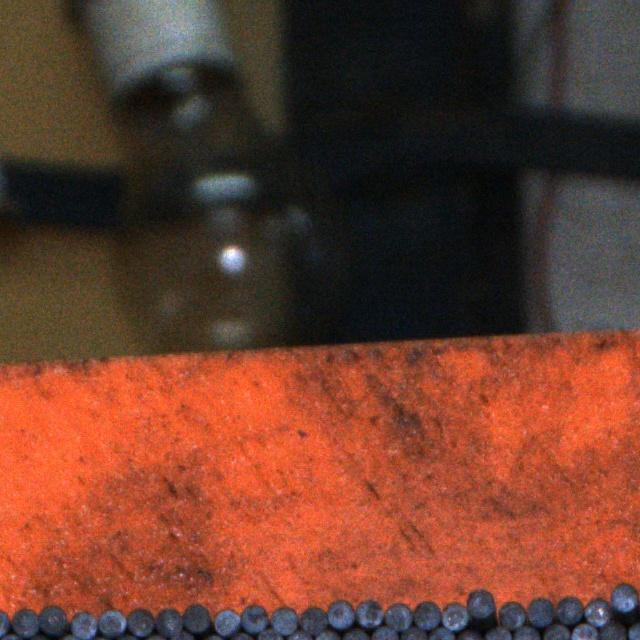tool: (37, 605, 67, 635), (98, 607, 126, 638), (327, 598, 355, 629), (10, 607, 38, 637), (154, 607, 182, 637), (182, 602, 210, 632), (240, 603, 268, 633), (412, 600, 440, 630), (526, 597, 554, 627), (610, 582, 638, 612), (126, 607, 154, 636), (299, 606, 327, 635), (584, 597, 612, 626), (355, 598, 382, 628), (441, 601, 468, 631), (498, 600, 525, 630), (384, 602, 412, 630), (466, 588, 493, 617), (70, 610, 96, 640), (270, 606, 297, 634), (556, 595, 582, 624), (213, 609, 240, 636), (598, 620, 625, 640), (542, 623, 570, 640), (570, 623, 598, 640), (484, 625, 511, 640), (370, 626, 398, 640), (512, 626, 540, 640), (399, 626, 426, 640), (341, 627, 369, 640), (427, 627, 454, 640)
